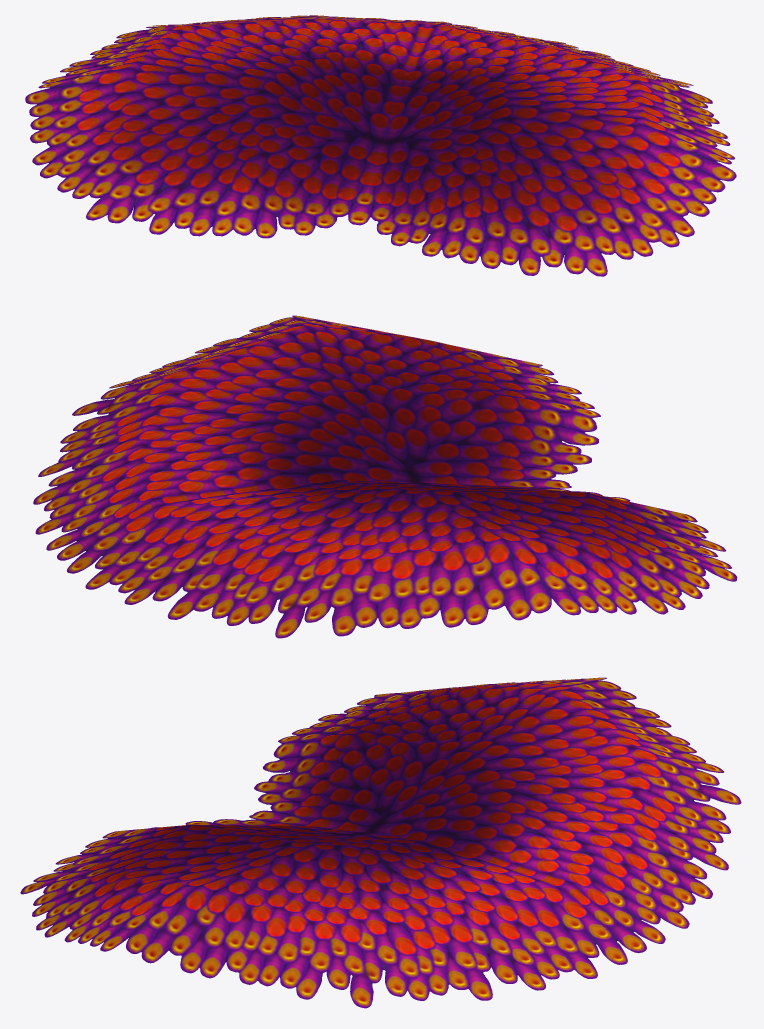
File: Coral_20.FBX
3 views of the same model, one above another, from view 1: azimuth 30°, elevation 25°; view 2: azimuth 150°, elevation 25°; view 3: azimuth 270°, elevation 25° (orthographic). The views are drawn at different scales.
Parts seen in each view (by area): view 1: Coral_20; view 2: Coral_20; view 3: Coral_20.
Part boxes in pixels (left/top/right/bottom): Coral_20: left=25, top=15, right=736, bottom=276; Coral_20: left=33, top=315, right=737, bottom=638; Coral_20: left=20, top=677, right=741, bottom=1008.
Size of the model in its own units: 89.78 by 11.4 by 86.57.
